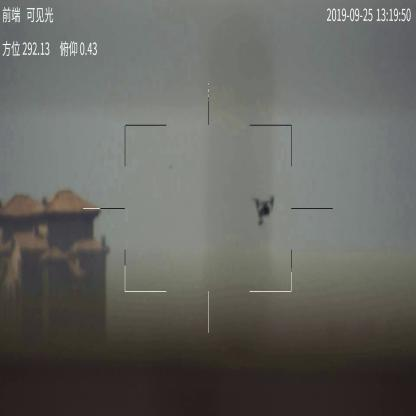uav: (251, 192, 276, 226)
